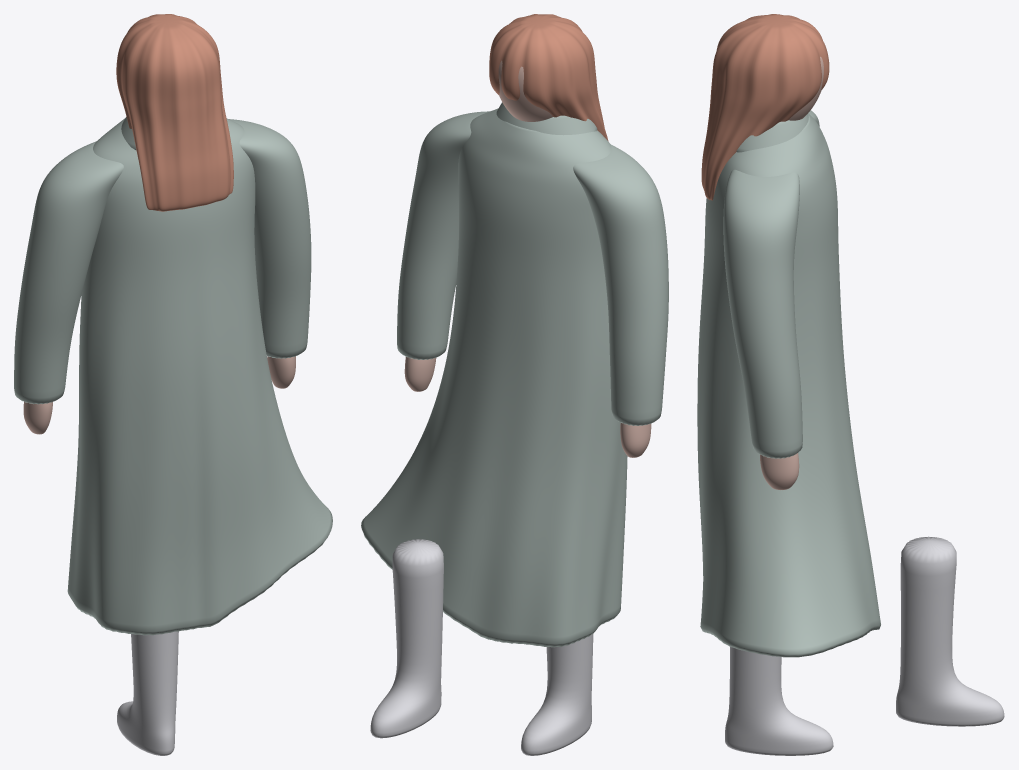
File: figur.glb
3 renders of one model, left to right at view 1: azimuth 30°, elevation 25°; view 2: azimuth 150°, elevation 25°; view 3: azimuth 270°, elevation 25°, orthographic. The views are drawn at different scales.
Visible parts, largest first — view 1: Mantel, Haar, Aermel, Aermel.001, Bein, Hand, Hand.001; view 2: Mantel, Aermel, Aermel.001, Bein.001, Haar, Bein, Kragen, Kopf, Hand, Hand.001; view 3: Mantel, Aermel.001, Haar, Bein.001, Bein, Kragen, Hand.001.
Boxes of the visible parts, left/top/right/bottom form: Mantel: left=67, top=118, right=332, bottom=635; Haar: left=116, top=14, right=233, bottom=211; Aermel: left=14, top=141, right=123, bottom=404; Aermel.001: left=229, top=119, right=311, bottom=358; Bein: left=117, top=631, right=178, bottom=755; Hand: left=23, top=401, right=52, bottom=434; Hand.001: left=267, top=356, right=295, bottom=388; Mantel: left=361, top=108, right=627, bottom=647; Aermel: left=573, top=144, right=668, bottom=425; Aermel.001: left=397, top=111, right=489, bottom=359; Bein.001: left=370, top=539, right=443, bottom=738; Haar: left=489, top=14, right=608, bottom=141; Bein: left=521, top=634, right=593, bottom=755; Kragen: left=496, top=102, right=597, bottom=135; Kopf: left=498, top=60, right=552, bottom=121; Hand: left=620, top=423, right=651, bottom=457; Hand.001: left=404, top=357, right=436, bottom=391; Mantel: left=697, top=113, right=880, bottom=657; Aermel.001: left=723, top=169, right=802, bottom=458; Haar: left=701, top=14, right=829, bottom=200; Bein.001: left=896, top=536, right=1004, bottom=726; Bein: left=725, top=647, right=833, bottom=755; Kragen: left=736, top=114, right=808, bottom=152; Hand.001: left=760, top=453, right=799, bottom=490.
Bounding box in the file's own units: 0.7828 × 1.77 × 0.666.
